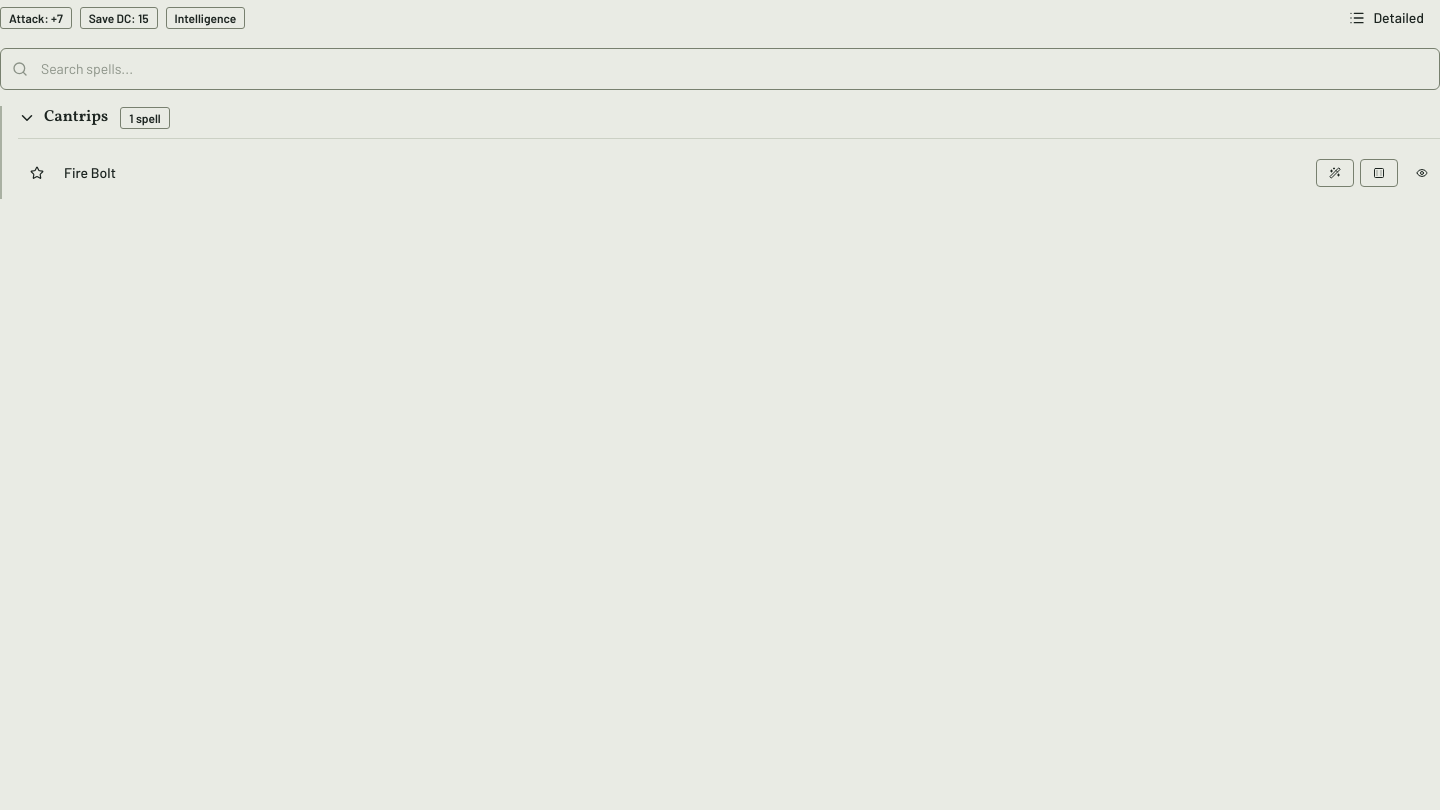
Test: QuickSpells rows › keeps cast, favorite, and attack actions with secondary row controls
Click the button titled "Cast spell" at (1335, 173), box [1316, 159, 1354, 187]
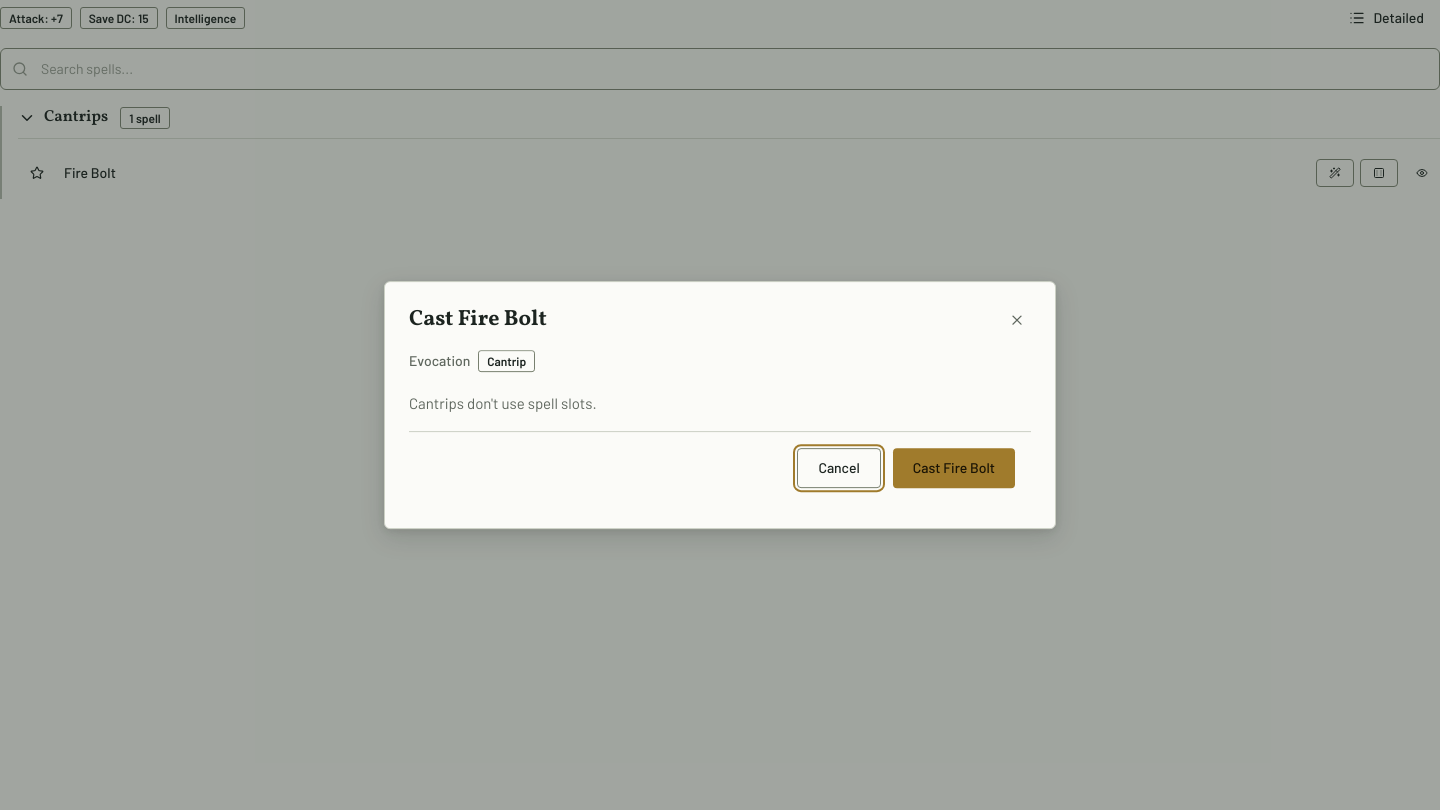
Now the dialog "Cast Fire Bolt" is shown, box [384, 281, 1056, 529]
